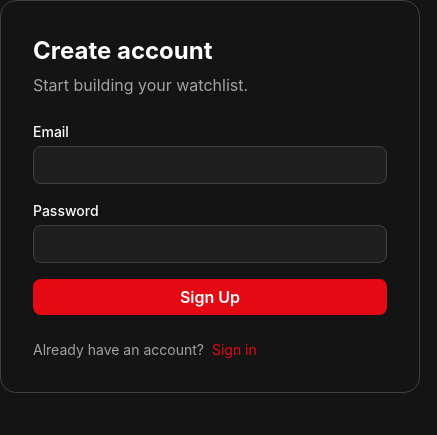
AuthForm › validates sign up password length
In the field labelled "Email": (210, 165) [33,146,387,184], type "test@example.com"
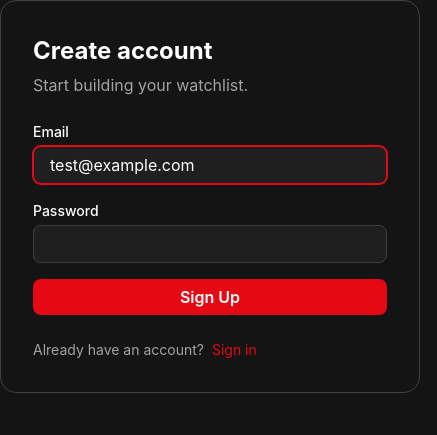
In the password field labelled "Password": (210, 244) [33,225,387,263], type "short"
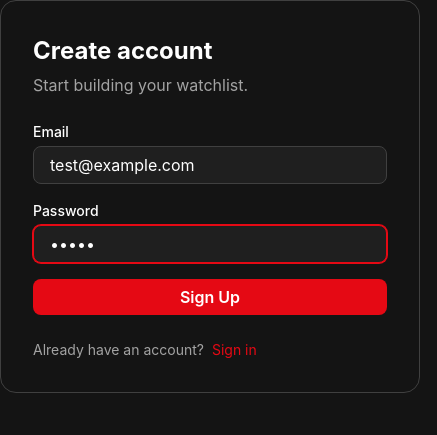
Click the button "Sign Up": (210, 297) [33,279,387,315]
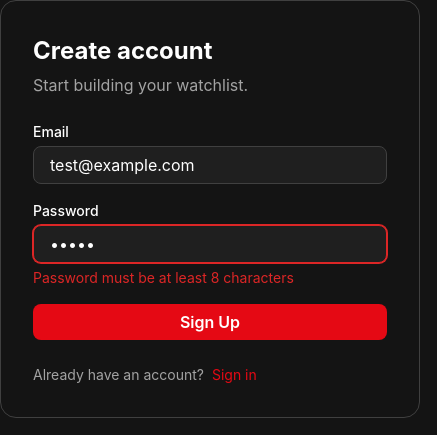
Expected: the text "Password must be at least 8 characters" is shown, [33,269,294,286]
